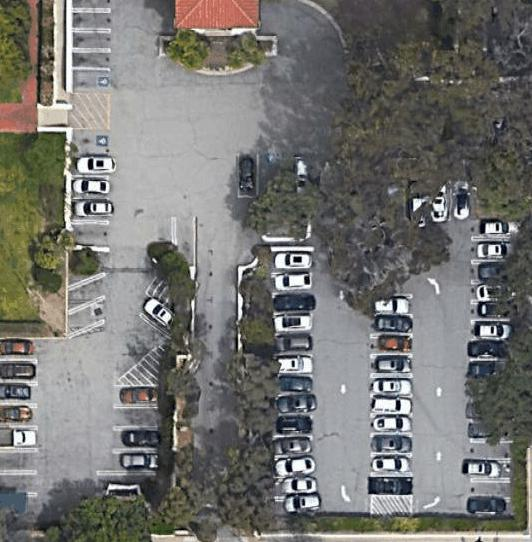parkingspot: (270, 249, 322, 515), (366, 290, 416, 497), (466, 215, 522, 377), (0, 336, 44, 500), (65, 126, 114, 249), (110, 383, 162, 478), (69, 6, 114, 97), (466, 437, 515, 520), (65, 254, 108, 340), (237, 151, 313, 199), (429, 179, 478, 224), (137, 293, 179, 342), (171, 211, 197, 270)
